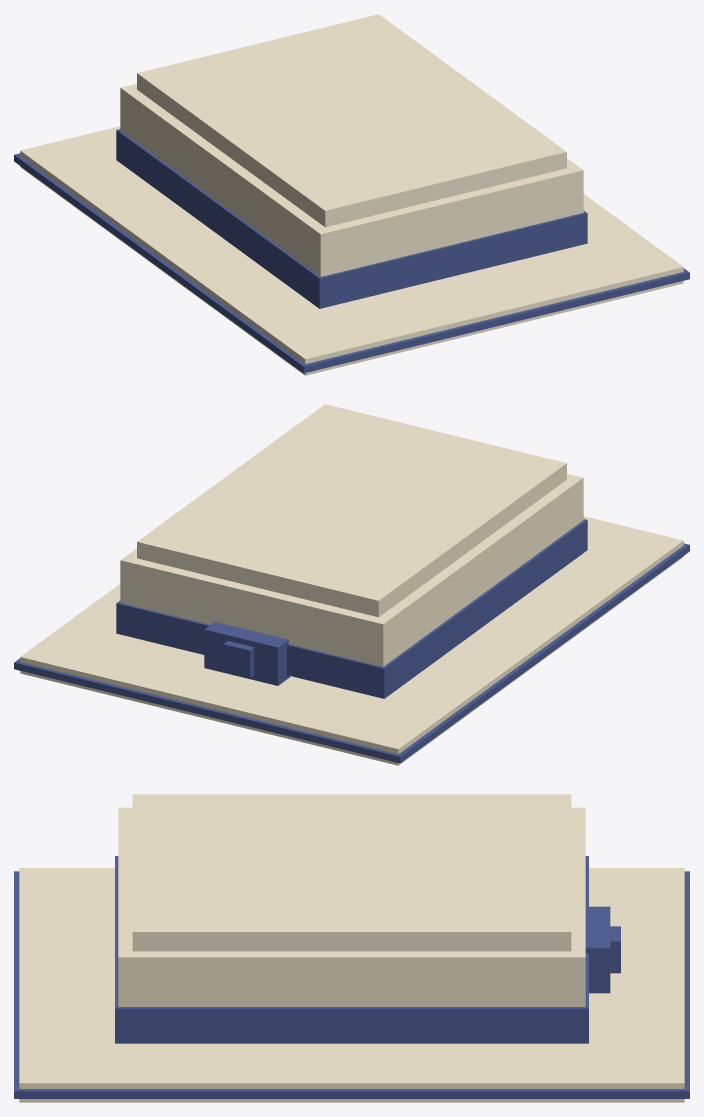
The model's file is chapeu_panama_palha.glb.
The picture shows the model from 3 angles, top to bottom: view 1: azimuth 30°, elevation 25°; view 2: azimuth 150°, elevation 25°; view 3: azimuth 270°, elevation 25°; orthographic projection. The views are drawn at different scales.
Visible parts, largest first — view 1: chapeu_panama_palha; view 2: chapeu_panama_palha; view 3: chapeu_panama_palha.
Boxes of the visible parts, x1,y1,x2,y2 form: chapeu_panama_palha: (14, 14, 689, 375); chapeu_panama_palha: (14, 404, 689, 765); chapeu_panama_palha: (14, 794, 689, 1102).
Size of the model in its own units: 0.735 by 0.205 by 0.955.
